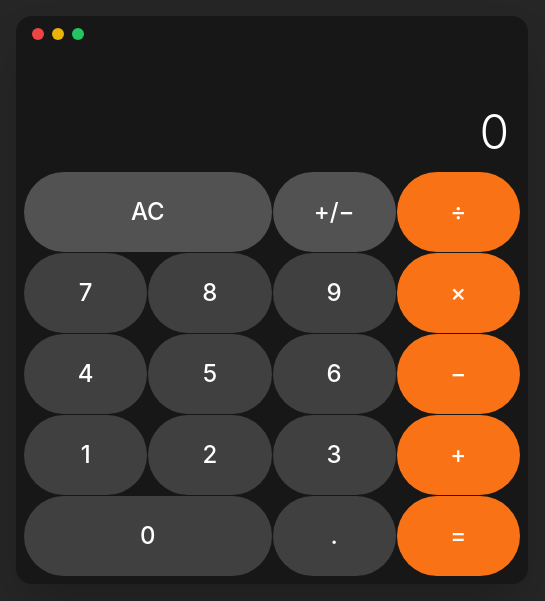
it: Calculator › adds a decimal point
Click the button "3" at (334, 455), box [272,415,396,495]
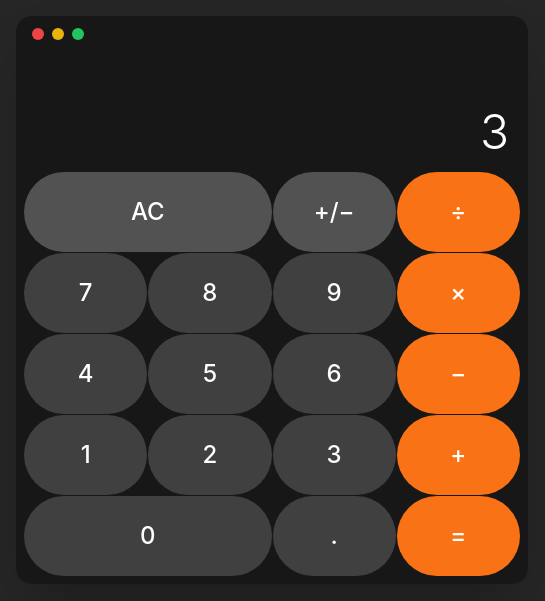
Click the button "." at (334, 536), box [272,496,396,576]
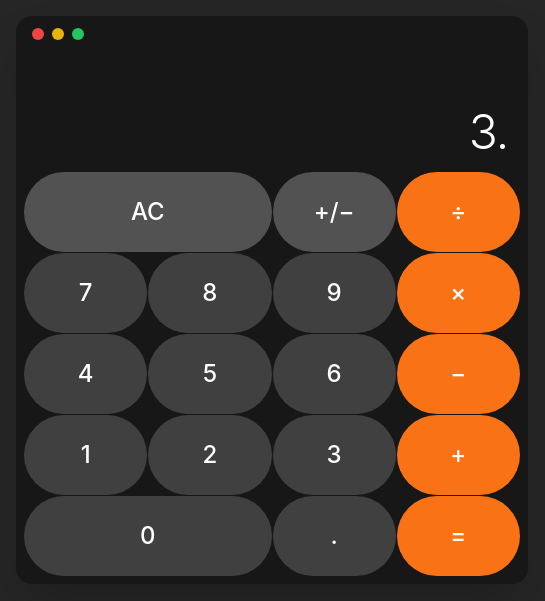
Click the button "1" at (86, 455), box [24,415,147,495]
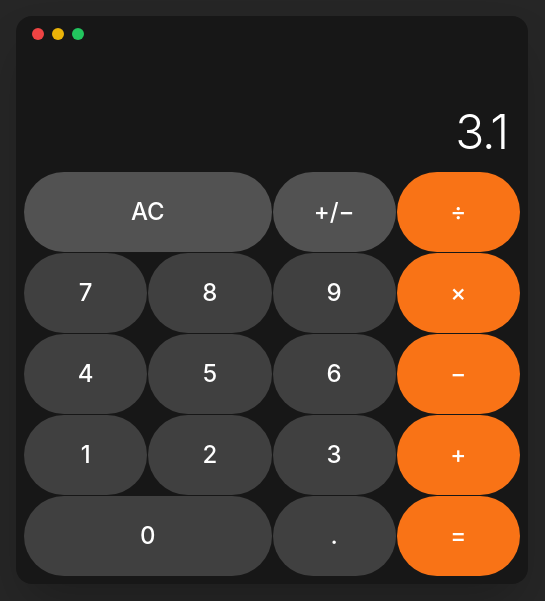
Expected: the message with test id "display" reads "3.1", [455,102,508,161]
